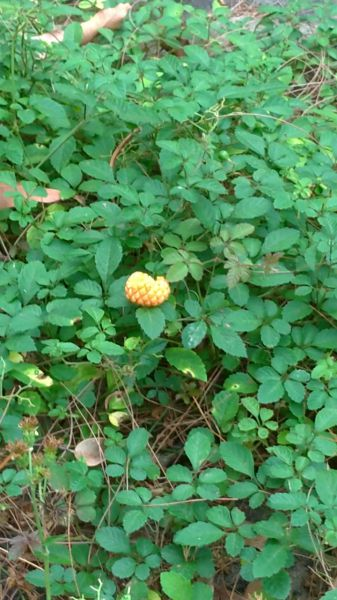eggs: (120, 269, 177, 313)
